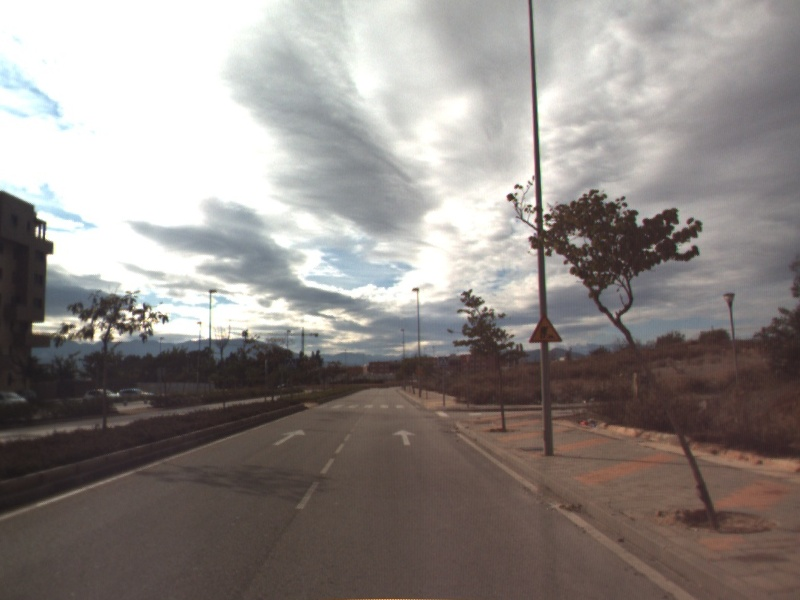STRAIGHT: (271, 427, 308, 447), (390, 427, 418, 447)
